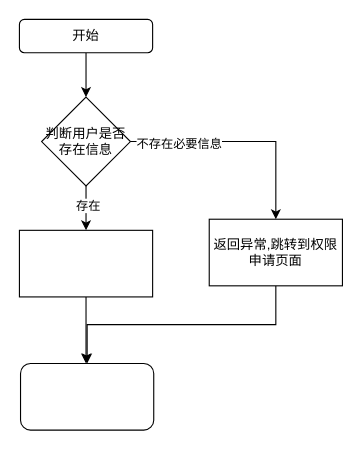
The diagram is 362 pixels wide and 450 high, and some of its shapes have lost their labels. Each missing label, with the centre of its shape:
"结束" goes at (86,396).
"获取角色,菜单权限" goes at (85,263).
